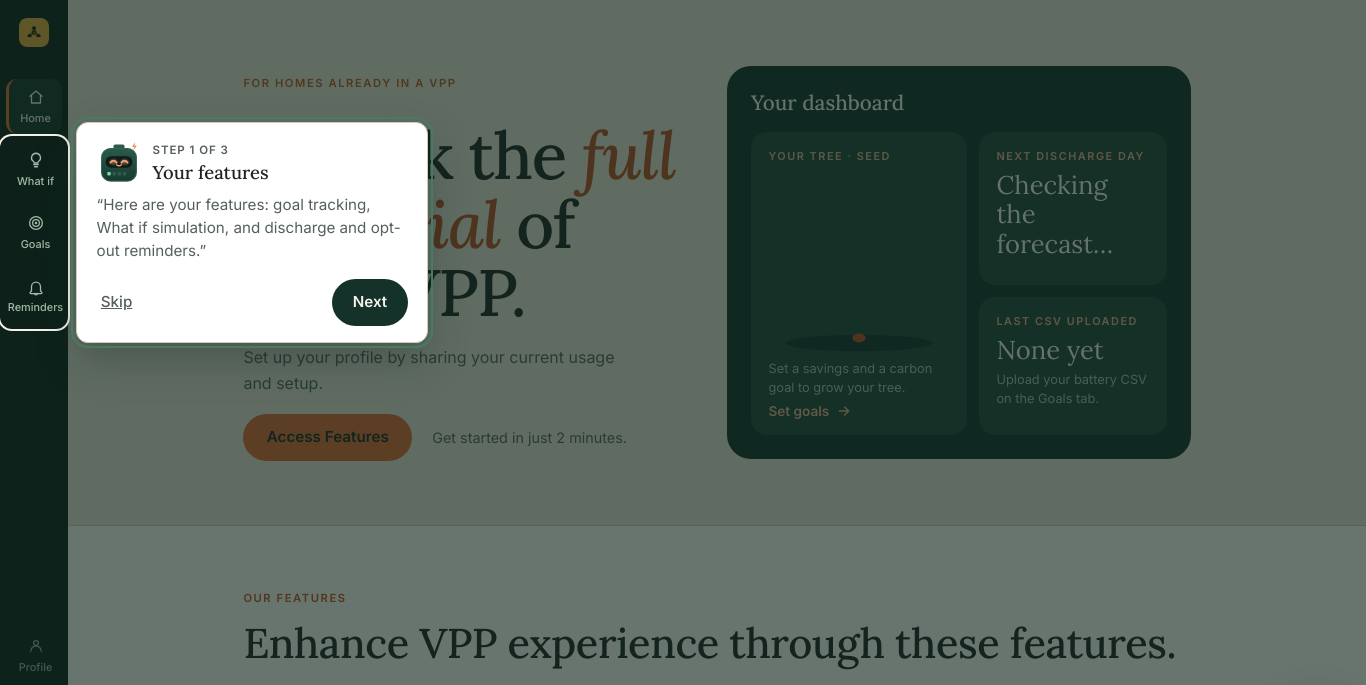
Test: Tutorial in the app › never runs the path reset it points at
The width and height of the screenshot is (1366, 685).
Expected: the dialog "Your features" is shown, x1=76 y1=122 x2=428 y2=343
Click the button "Skip" at (117, 302), box x1=97 y1=287 x2=136 y2=318
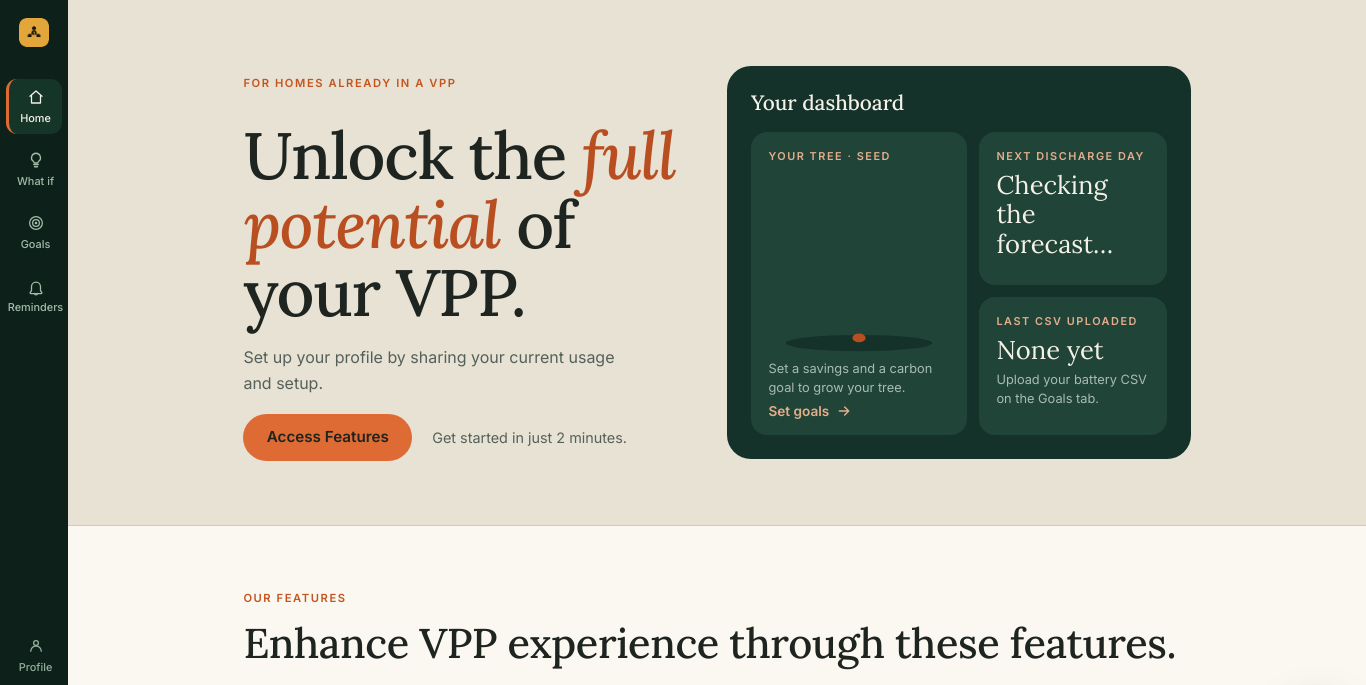
Expected: the dialog is gone
